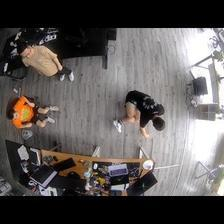fall: (112, 89, 166, 137)
normal: (16, 41, 74, 81), (4, 94, 58, 130)
